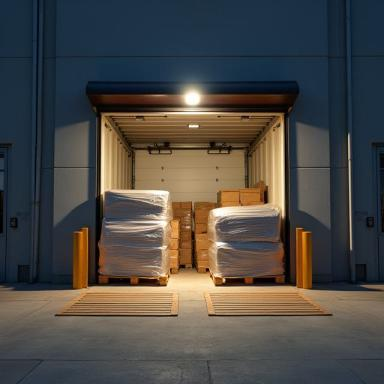pallet: (99, 269, 171, 286), (209, 269, 285, 285)
